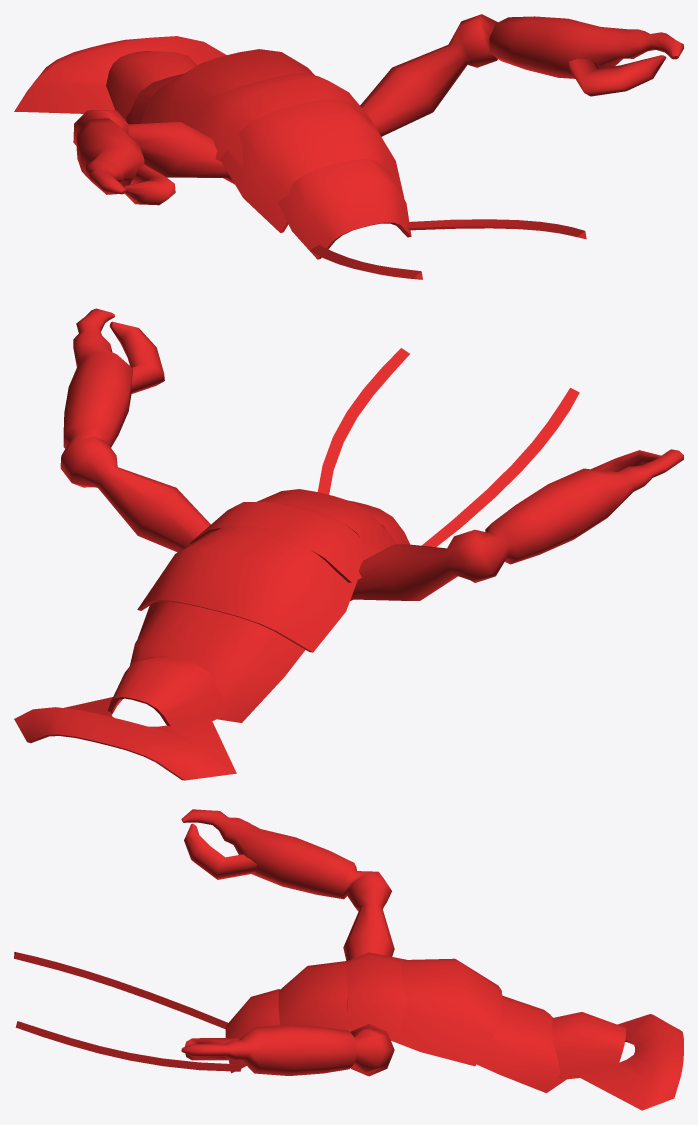
Rendered from Munition_Ideal.fbx.
The picture shows the model from 3 angles, top to bottom: view 1: azimuth 30°, elevation 25°; view 2: azimuth 150°, elevation 25°; view 3: azimuth 270°, elevation 25°; orthographic projection. The views are drawn at different scales.
Visible parts, largest first — view 1: Module_Ideal; view 2: Module_Ideal; view 3: Module_Ideal.
Boxes of the visible parts, bbox=[...] form: Module_Ideal: bbox=[14, 14, 683, 279]; Module_Ideal: bbox=[14, 308, 683, 780]; Module_Ideal: bbox=[14, 809, 683, 1110].
Bounding box in the file's own units: 158 × 43.94 × 185.
